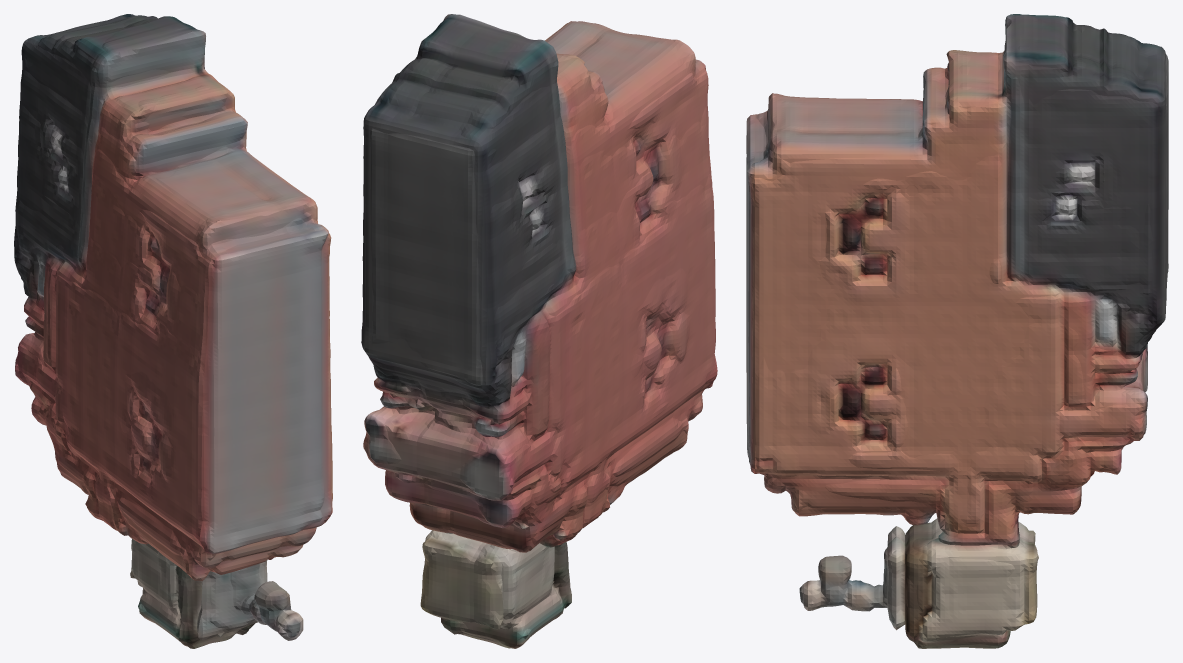
3 renders of one model, left to right at view 1: azimuth 30°, elevation 25°; view 2: azimuth 150°, elevation 25°; view 3: azimuth 270°, elevation 25°, orthographic. The views are drawn at different scales.
Visible parts, largest first — view 1: geometry_0; view 2: geometry_0; view 3: geometry_0.
Part boxes in pixels (x1,y1,x2,y2): geometry_0: [14, 14, 332, 648]; geometry_0: [361, 14, 717, 648]; geometry_0: [746, 14, 1168, 648].
Bounding box in the file's own units: 0.2716 × 1.01 × 0.6524.
